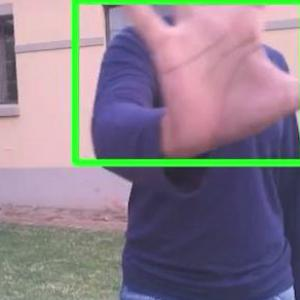follow_hand: (118, 0, 299, 166)
